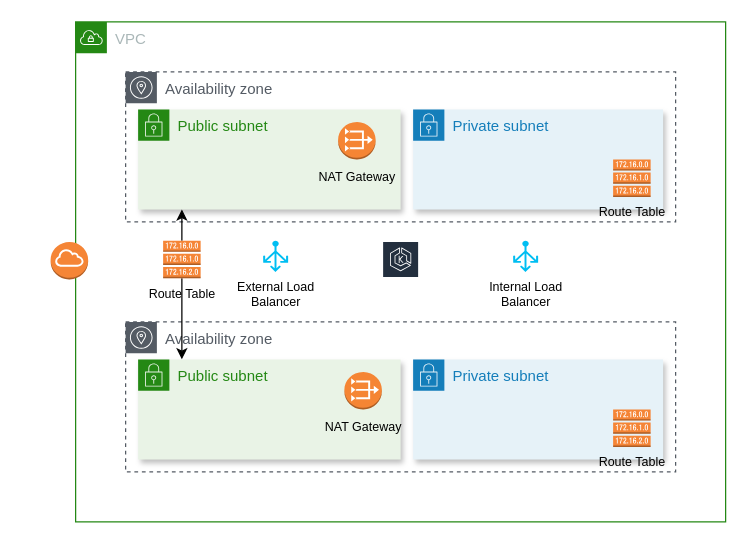
Some shapes in this 748 by 544 pixel diagram are drawn without their labels. Here are the shapes that lost their labels. From the top down, the centre of each, then its label:
At [68,260]: "Internet Gateway".
At [400,271]: "EKS".
